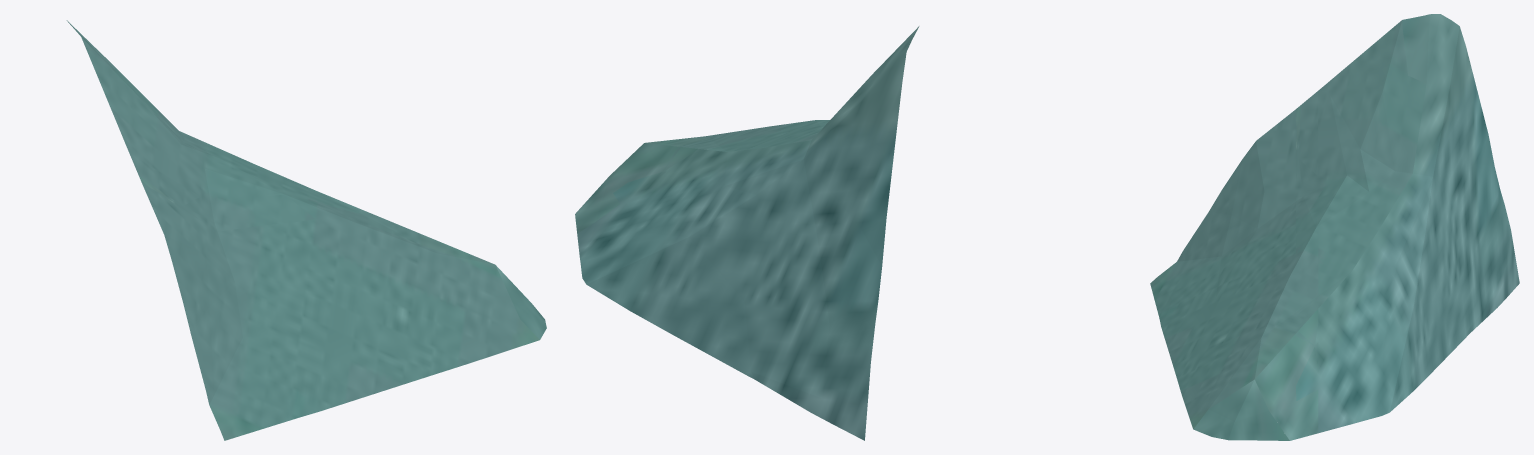
The model's file is Tile_+008_+007_L19_00140.glb.
The picture shows the model from 3 angles, left to right: view 1: azimuth 30°, elevation 25°; view 2: azimuth 150°, elevation 25°; view 3: azimuth 270°, elevation 25°; orthographic projection. The views are drawn at different scales.
Visible parts, largest first — view 1: rtc; view 2: rtc; view 3: rtc.
Boxes of the visible parts, x1,y1,x2,y2 form: rtc: [66, 20, 546, 440]; rtc: [575, 26, 919, 440]; rtc: [1150, 14, 1519, 440].
Size of the model in its own units: 8.38 by 6.68 by 8.31.
1 material, 1 textured.
